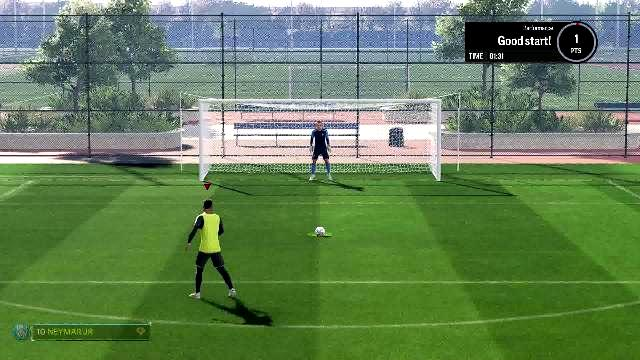bottom-left: (201, 146, 275, 180)
bottom-right: (359, 146, 439, 180)
center-down: (276, 148, 358, 180)
center-up: (276, 103, 356, 145)
circle: (306, 232, 338, 238)
football: (314, 228, 326, 236)
goalkeeper: (305, 123, 337, 183)
player: (184, 200, 238, 306)
top-left: (202, 102, 274, 146)
top-right: (359, 102, 439, 144)
